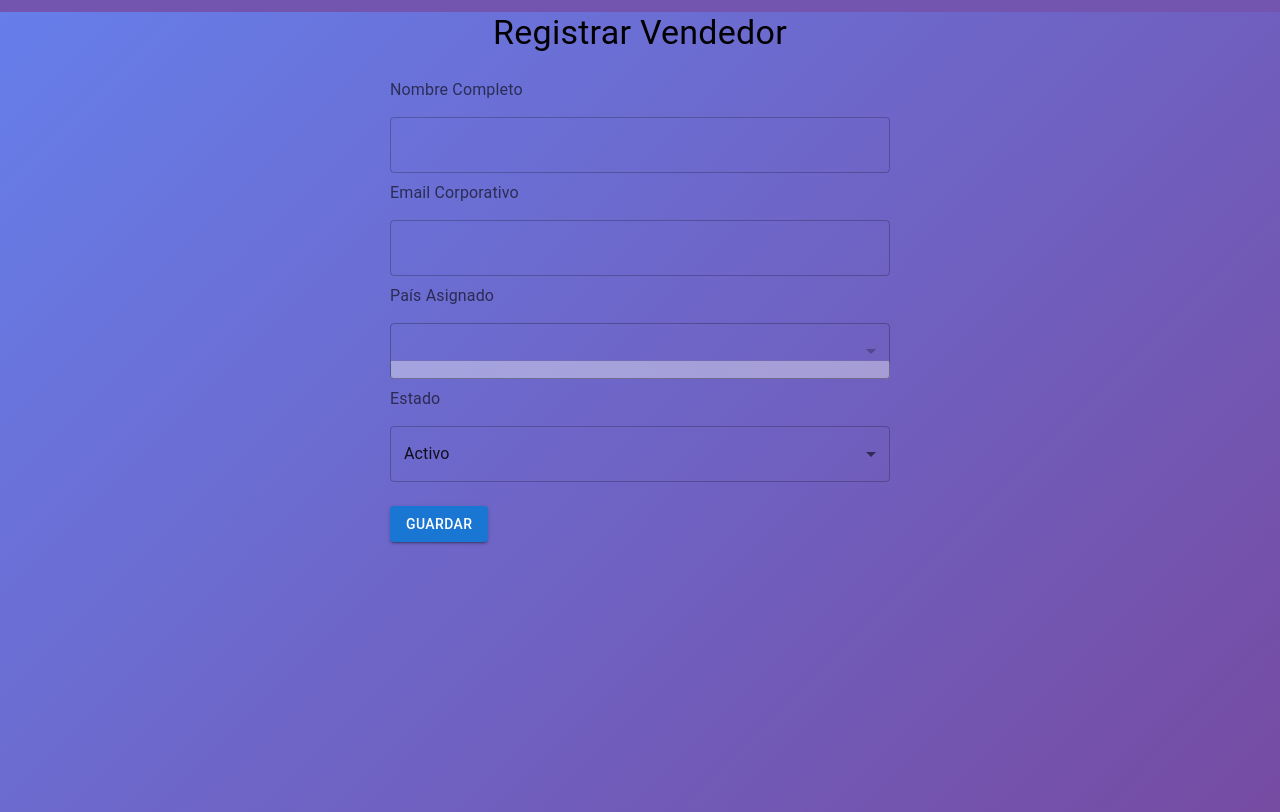
Test case: VendedorForm › Validaciones con Yup › valida que nombre completo es obligatorio
Click the button "Guardar": [439, 524] box [390,506,488,542]
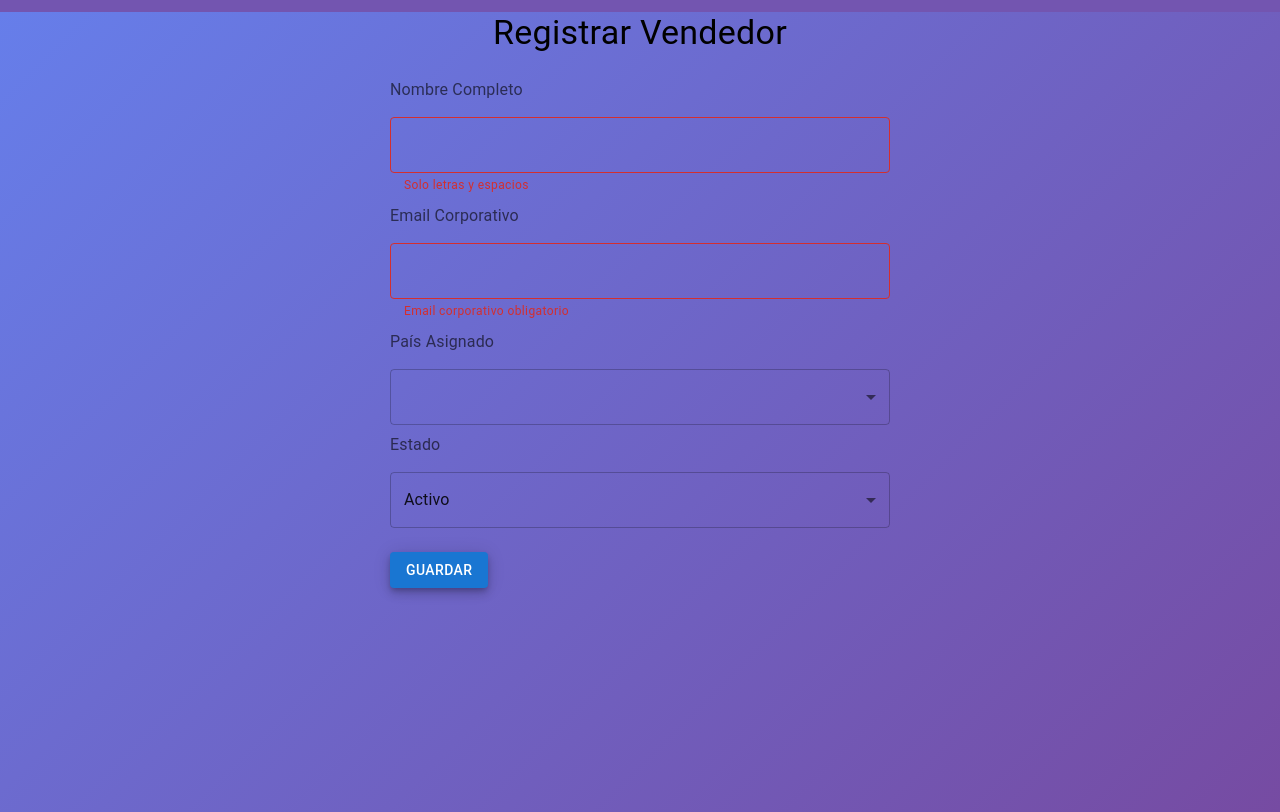
Expected: the text "Email corporativo obligatorio" is shown, [404,304,569,318]
